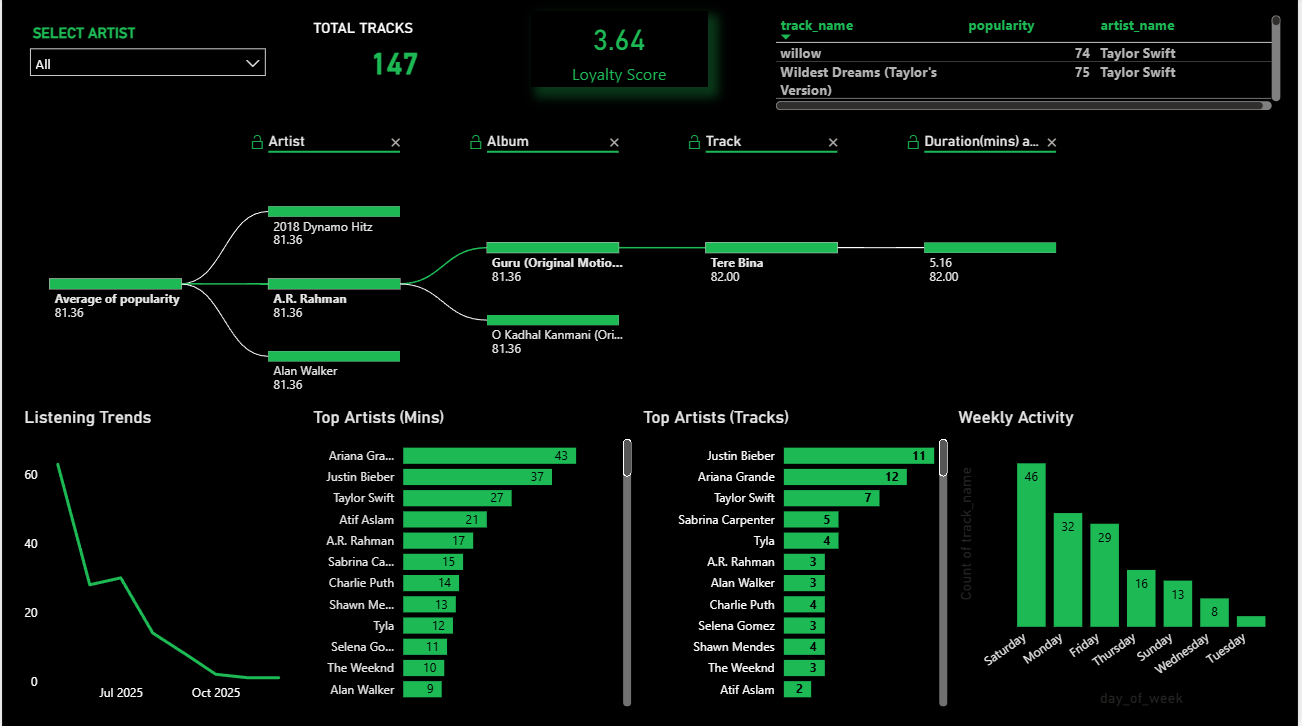

The page's visual inventory and layout, read from the dashboard file:
{"tool":"powerbi","page":{"name":"Analytics","canvas":[1280,720],"ordinal":0},"visuals":[{"type":"decompositionTreeVisual","fields":{"ExplainBy":["dim_album_stats.artist_name","dim_album_stats.album_name","dim_top_tier_tracks.track_name","fact_track_breakdown.duration_min"],"Analyze":["dim_top_tier_tracks.popularity"]},"box":[17.5,126.2,1250,277.5],"z":0},{"type":"clusteredColumnChart","title":"Weekly Activity","fields":{"Category":["dim_date_dimension.day_of_week"],"Y":["fact_track_breakdown.track_name"]},"box":[939.1,403.3,328.8,301.4],"z":1000},{"type":"tableEx","fields":{"Values":["dim_top_tier_tracks.track_name","dim_top_tier_tracks.popularity","dim_top_tier_tracks.artist_name"]},"box":[756.8,18.5,509.9,95.1],"z":2000},{"type":"card","fields":{"Values":["dim_artist_stats.Loyalty Score"]},"box":[507.4,18.5,175.3,76.5],"z":3000},{"type":"slicer","fields":{"Values":["dim_artist_stats.artist_name"]},"box":[17.3,18.5,253.1,67.9],"z":5000},{"type":"clusteredBarChart","title":"Top Artists (Tracks)","fields":{"Category":["dim_artist_stats.artist_name"],"Y":["fact_track_breakdown.track_name"]},"box":[628.6,403.3,310.5,301.4],"z":6000},{"type":"card","title":"TOTAL TRACKS","fields":{"Values":["fact_track_breakdown.track_name"]},"box":[292.6,18.5,170.4,67.9],"z":7000},{"type":"clusteredBarChart","title":"Top Artists (Mins)","fields":{"Category":["dim_artist_stats.artist_name"],"Y":["dim_artist_stats.total_listening_time_mins"]},"box":[314.8,418.5,324.7,301.2],"z":8000},{"type":"lineChart","title":"Listening Trends","fields":{"Y":["dim_timeline_trends.tracks_count"],"Category":["dim_timeline_trends.month_added.Variation.Date Hierarchy.Year","dim_timeline_trends.month_added.Variation.Date Hierarchy.Month"]},"box":[16.7,403.3,286.1,307.4],"z":9000}]}

Visuals, with their boxes in screenshot pixels (x1, y1, x2, y2), scaled from the page's 1280x720 canvas onto the 1302x726 screenshot:
decompositionTreeVisual - dim_album_stats.artist_name x dim_album_stats.album_name: 18,127,1289,407
"Weekly Activity" clusteredColumnChart: 955,407,1290,711
tableEx - dim_top_tier_tracks.track_name x dim_top_tier_tracks.popularity: 770,19,1288,115
card - dim_artist_stats.Loyalty Score: 516,19,694,96
slicer - dim_artist_stats.artist_name: 18,19,275,87
"Top Artists (Tracks)" clusteredBarChart: 639,407,955,711
"TOTAL TRACKS" card: 298,19,471,87
"Top Artists (Mins)" clusteredBarChart: 320,422,650,725
"Listening Trends" lineChart: 17,407,308,717
